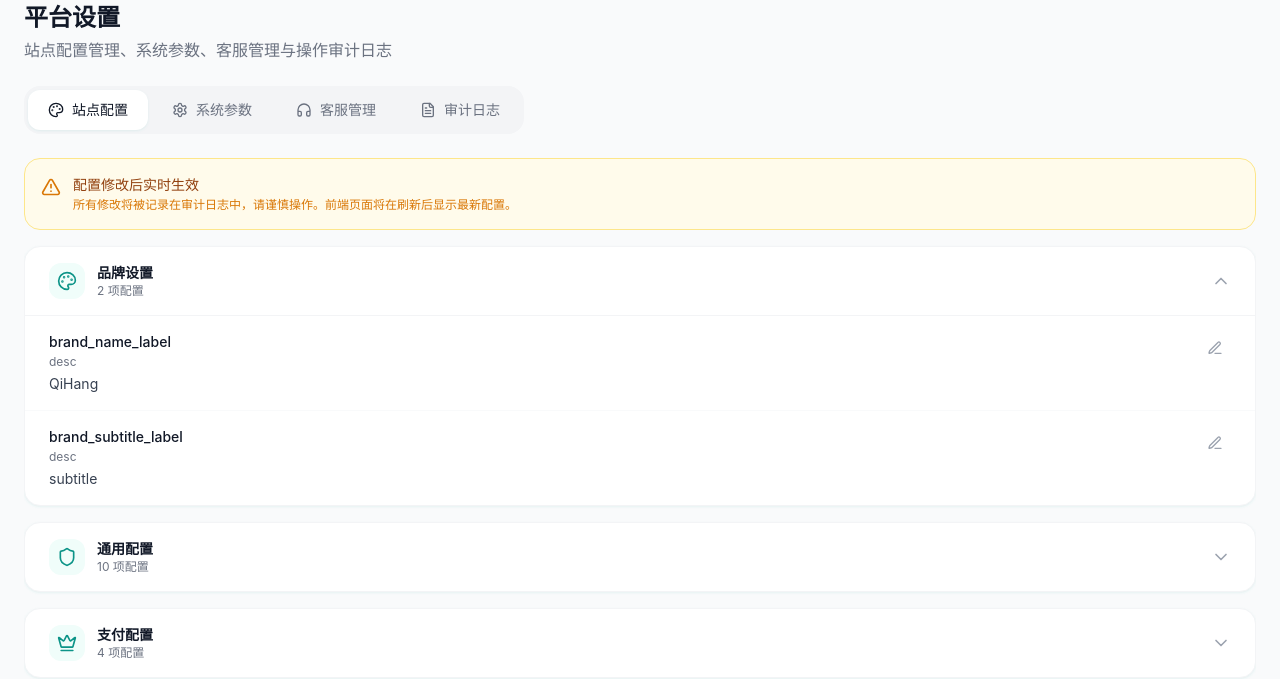
it: AdminSettings - Completion Features › Upload Limit › upload limit area visible
The image size is (1280, 679).
Click the button "系统参数". click: (212, 110)
box: [152,90,272,130]
(page scrolled)
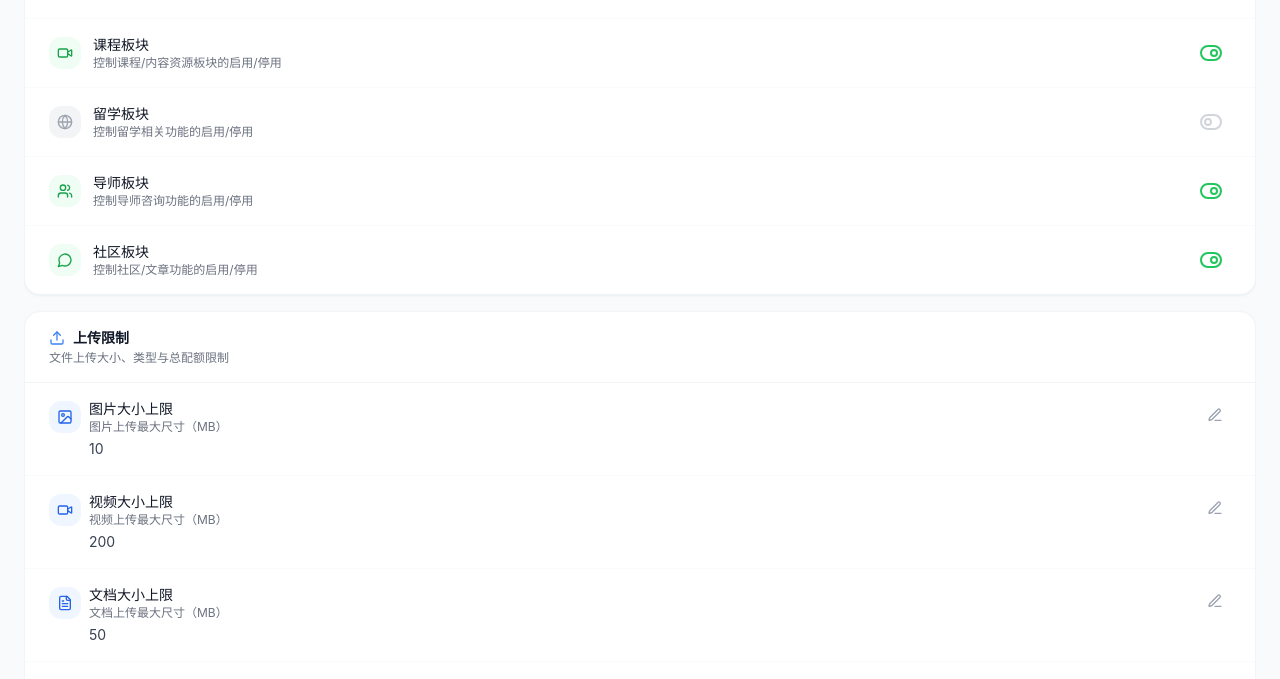
Result: the heading "上传限制" is shown at [73,328,129,348]
